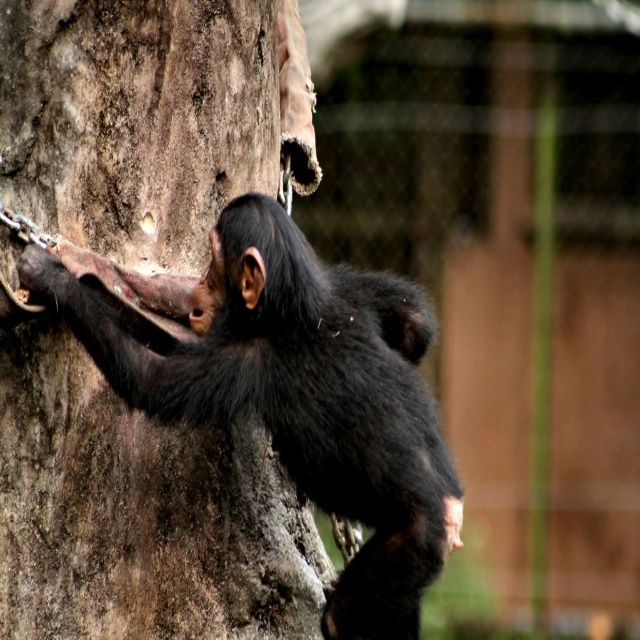Monkey: (14, 192, 466, 639)
